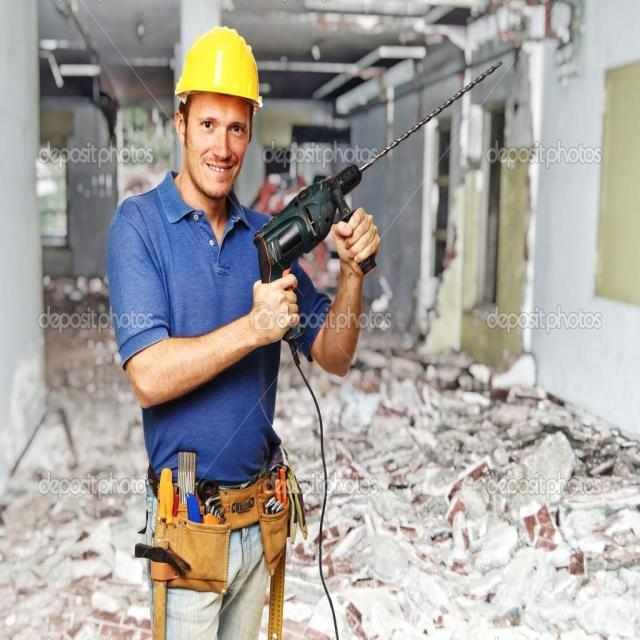Face: (187, 86, 265, 196)
